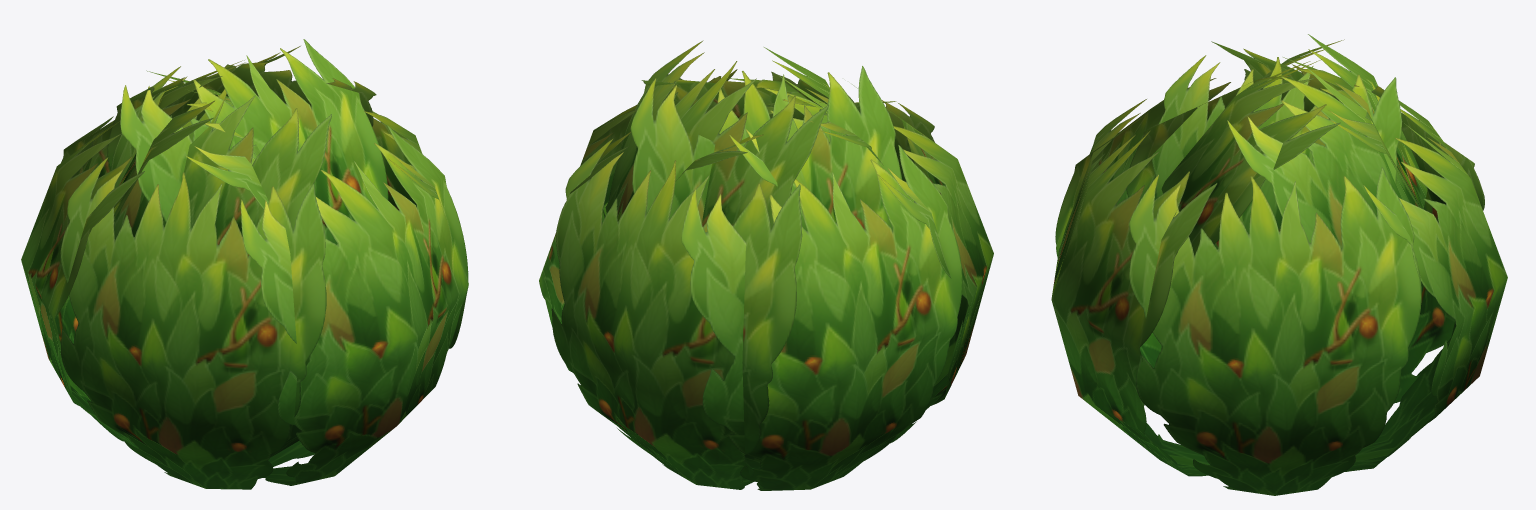
The model's file is glass_006.fbx.
3 views of the same model, side by side, from view 1: azimuth 30°, elevation 25°; view 2: azimuth 150°, elevation 25°; view 3: azimuth 270°, elevation 25° (orthographic). The views are drawn at different scales.
Parts seen in each view (by area): view 1: polySurface79; view 2: polySurface79; view 3: polySurface79.
Part boxes in pixels (box(x1,y1,x2,y2)): polySurface79: box(21, 39, 468, 489); polySurface79: box(539, 40, 993, 490); polySurface79: box(1051, 34, 1507, 495).
Size of the model in its own units: 63.65 by 65.91 by 63.17.
